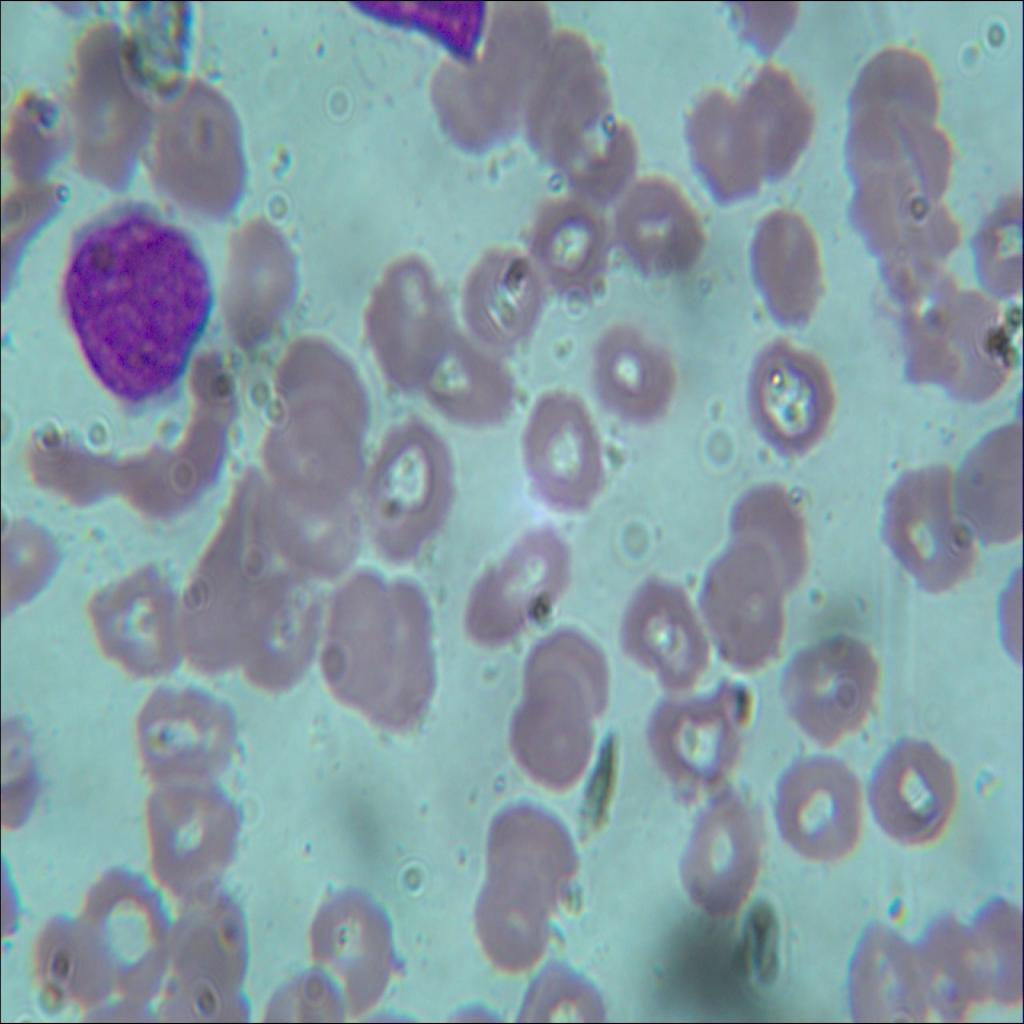Eritrosit: (143, 76, 244, 218), (68, 32, 154, 189), (358, 251, 446, 404), (158, 882, 259, 1007), (149, 768, 244, 900), (638, 685, 746, 797), (213, 222, 306, 352), (78, 868, 168, 1002), (458, 531, 566, 641), (364, 577, 438, 737), (456, 238, 555, 357), (675, 784, 762, 918), (750, 335, 838, 462), (721, 56, 813, 177), (886, 462, 972, 591), (144, 672, 243, 784), (306, 884, 398, 1004), (779, 634, 883, 740), (266, 397, 368, 504), (373, 426, 451, 565), (620, 568, 706, 694), (522, 388, 608, 514), (275, 328, 371, 440), (869, 732, 958, 852), (702, 536, 784, 664), (430, 38, 522, 152), (94, 567, 183, 684), (521, 34, 609, 152), (724, 479, 816, 591), (261, 481, 359, 586), (610, 177, 701, 288), (744, 204, 830, 321), (240, 568, 318, 696), (884, 235, 966, 355), (769, 755, 863, 859), (482, 799, 576, 903), (858, 161, 946, 269), (426, 332, 522, 431), (840, 914, 926, 1023), (591, 327, 682, 428), (506, 675, 594, 779), (175, 554, 255, 668), (849, 42, 930, 154), (900, 908, 982, 1018), (330, 580, 396, 715), (218, 468, 294, 584), (466, 855, 548, 962), (524, 200, 609, 301), (35, 911, 119, 1010), (929, 298, 1008, 399), (0, 87, 70, 200), (686, 87, 758, 191), (528, 622, 615, 705), (878, 111, 952, 204), (494, 8, 564, 102)
Limfoblast: (56, 211, 214, 408)
